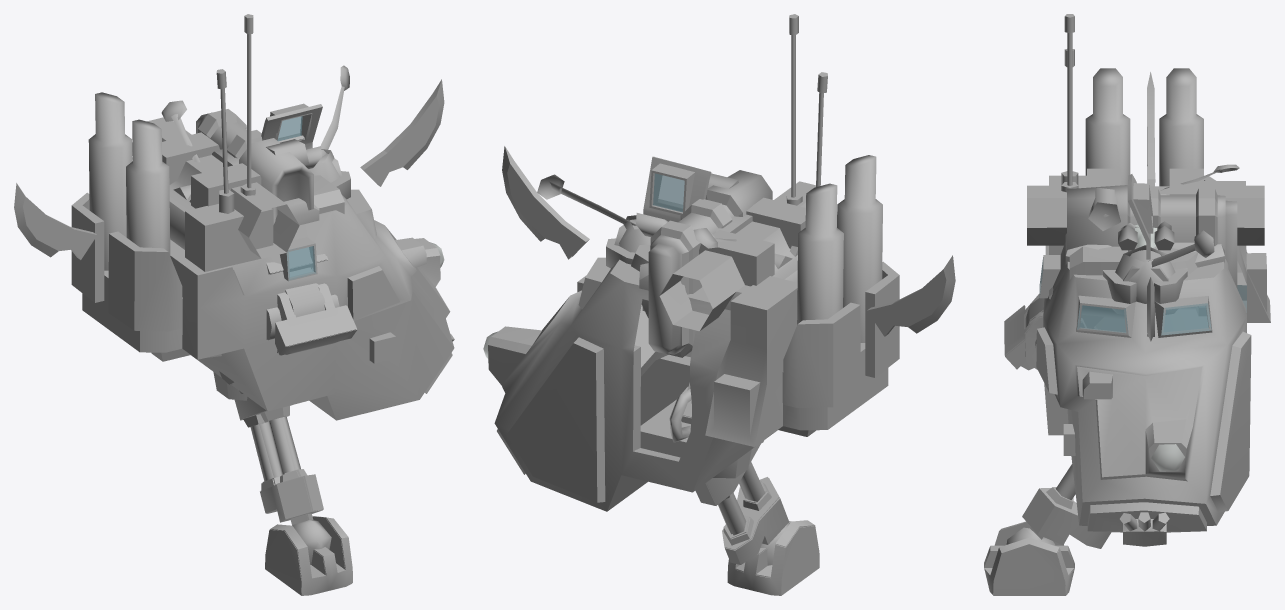
The model's file is bp_sentinel_flamer_rocket-143mkjz.glb.
3 renders of one model, left to right at view 1: azimuth 30°, elevation 25°; view 2: azimuth 150°, elevation 25°; view 3: azimuth 270°, elevation 25°, orthographic. The views are drawn at different scales.
Visible parts, largest first — view 1: turret, turret_interior, body, gun1, legr3, legl2, legl3, object012, object011, legl4, legr4, door (+4 smaller); view 2: turret, turret_interior, body, gun1, legr3, legr4, object012, door, object011, legl3, detail4, legl4; view 3: turret, turret_interior, body, gun1, legl4, legl3, gun_rot_melta, door, detail4, legr2, legl2, object011 (+3 smaller).
Part boxes in pixels (left/top/right/bottom): turret: left=71, top=14, right=454, bottom=420; turret_interior: left=71, top=93, right=452, bottom=418; body: left=132, top=117, right=350, bottom=258; gun1: left=196, top=109, right=313, bottom=268; legr3: left=240, top=405, right=322, bottom=564; legl2: left=219, top=283, right=356, bottom=393; legl3: left=234, top=397, right=331, bottom=549; object012: left=360, top=79, right=444, bottom=186; object011: left=14, top=183, right=97, bottom=259; legl4: left=270, top=516, right=352, bottom=595; legr4: left=265, top=517, right=351, bottom=595; door: left=261, top=103, right=322, bottom=149; turret: left=483, top=14, right=899, bottom=511; turret_interior: left=488, top=155, right=899, bottom=509; body: left=606, top=181, right=837, bottom=331; gun1: left=648, top=170, right=772, bottom=357; legr3: left=669, top=399, right=789, bottom=565; legr4: left=727, top=526, right=819, bottom=595; object012: left=502, top=146, right=589, bottom=259; door: left=642, top=156, right=711, bottom=311; object011: left=867, top=255, right=955, bottom=336; legl3: left=670, top=389, right=789, bottom=549; detail4: left=537, top=174, right=736, bottom=248; legl4: left=727, top=520, right=819, bottom=577; turret: left=1036, top=14, right=1270, bottom=546; turret_interior: left=1036, top=68, right=1270, bottom=532; body: left=1027, top=168, right=1264, bottom=314; gun1: left=1067, top=185, right=1237, bottom=319; legl4: left=984, top=521, right=1074, bottom=595; legl3: left=1006, top=464, right=1110, bottom=546; gun_rot_melta: left=1069, top=246, right=1127, bottom=279; door: left=1127, top=174, right=1153, bottom=259; detail4: left=1148, top=164, right=1239, bottom=267; legr2: left=1005, top=306, right=1095, bottom=370; legl2: left=1004, top=293, right=1096, bottom=355; object011: left=1147, top=72, right=1155, bottom=186.
Size of the model in its own units: 58.43 by 70.9 by 33.56.
